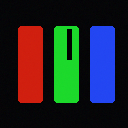4 line_v: (67, 29, 71, 59)
